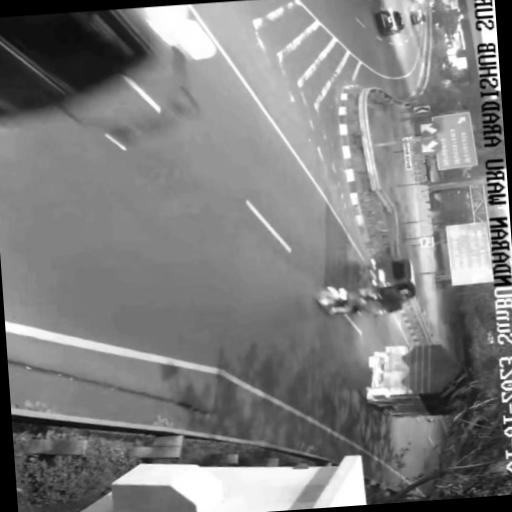car: (365, 247, 421, 312)
motorcycle: (313, 279, 366, 322)
truck: (362, 337, 472, 428)
